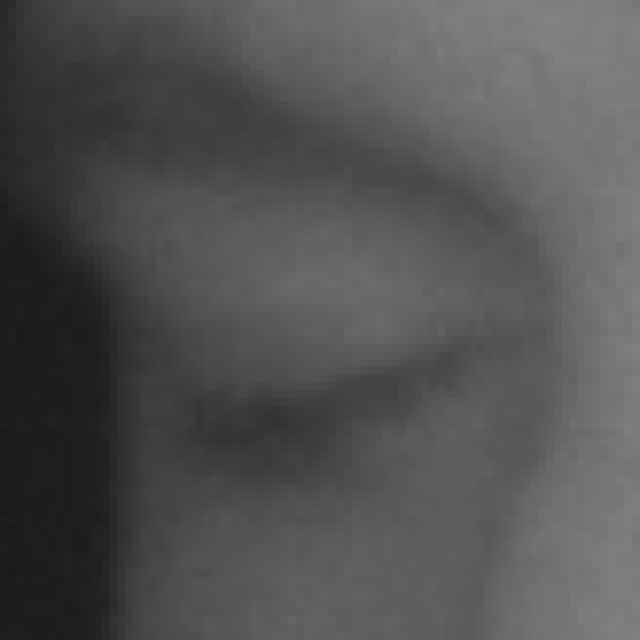Eyeclosed: (173, 239, 498, 597)
